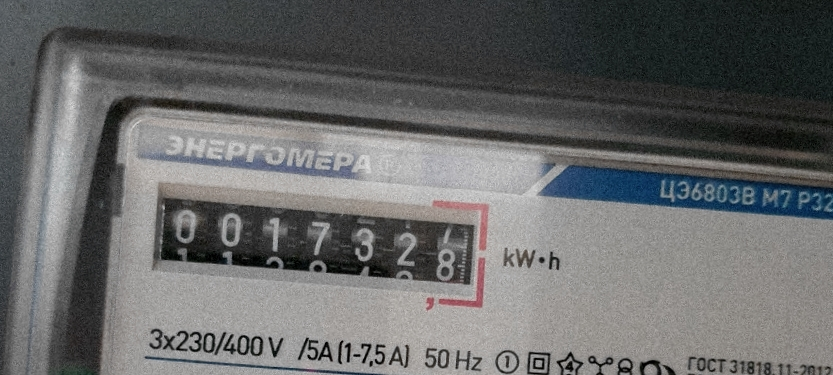0: (171, 205, 199, 246), (218, 209, 243, 248)
1: (263, 213, 283, 254)
2: (394, 229, 418, 267)
3: (352, 225, 377, 262)
7: (307, 217, 332, 257)
8: (434, 244, 455, 281)
screen: (140, 178, 499, 315)
